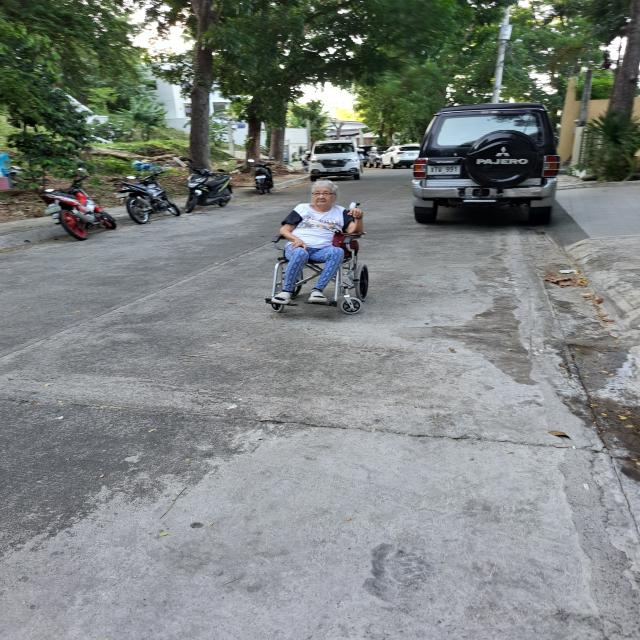wheelchairs: (266, 203, 386, 321)
